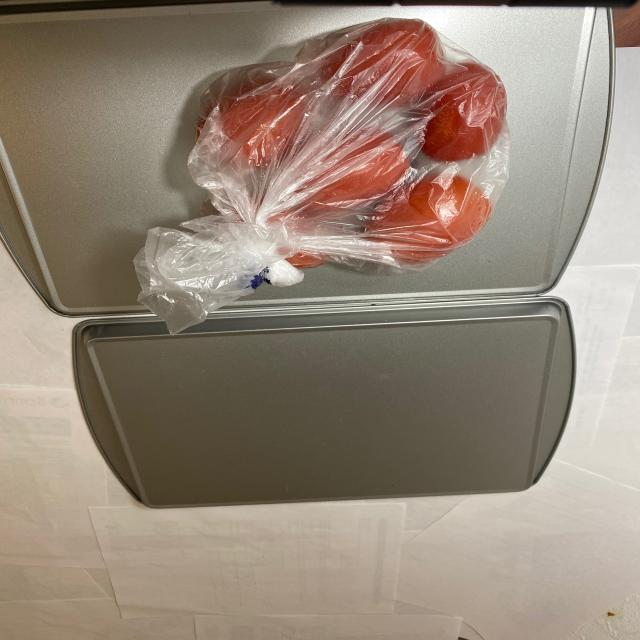tomato: (170, 19, 504, 292)
